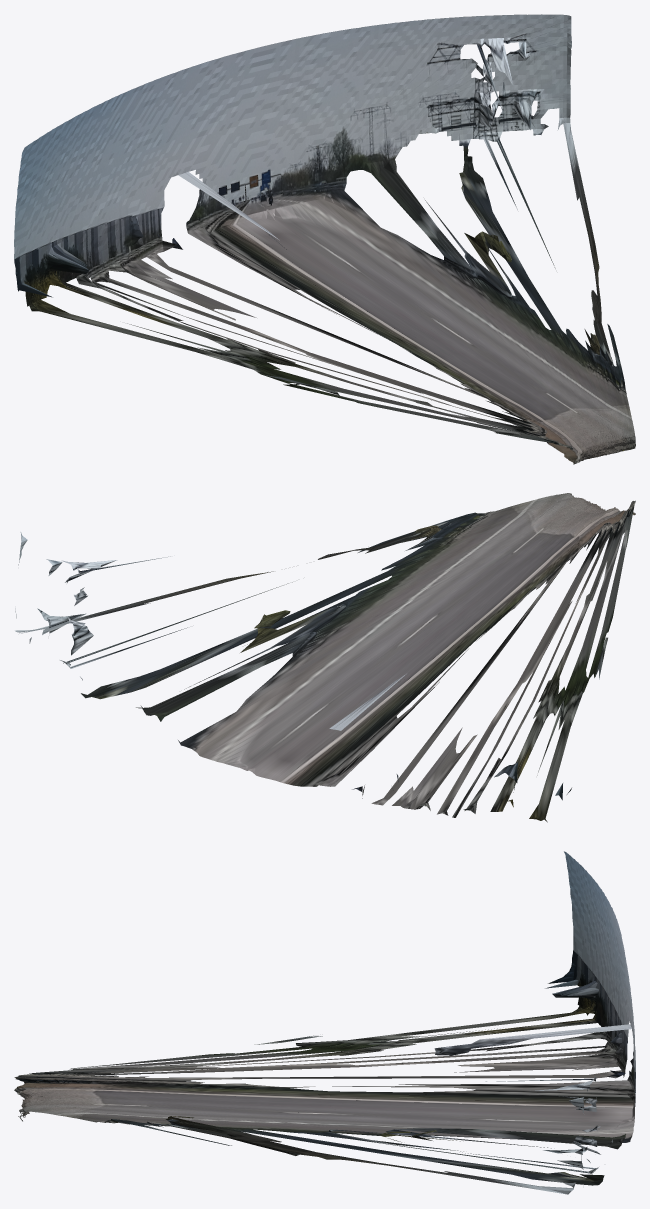
The picture shows the model from 3 angles, top to bottom: view 1: azimuth 30°, elevation 25°; view 2: azimuth 150°, elevation 25°; view 3: azimuth 270°, elevation 25°; orthographic projection. The views are drawn at different scales.
Parts seen in each view (by area): view 1: defaultobject; view 2: defaultobject; view 3: defaultobject.
Part boxes in pixels (left/top/right/bottom): defaultobject: left=14, top=14, right=635, bottom=464; defaultobject: left=15, top=493, right=635, bottom=822; defaultobject: left=14, top=851, right=635, bottom=1194.
Size of the model in its own units: 41.09 by 13.08 by 44.65.
Materials: 1 (1 with a texture image).
